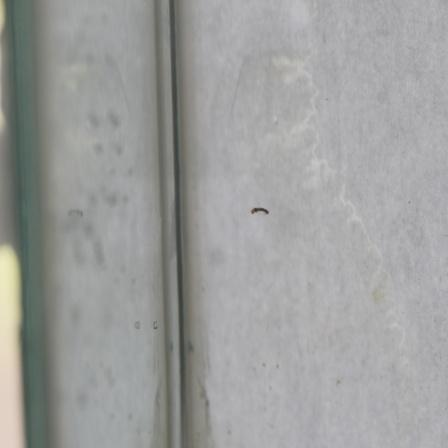Jentik-Nyamuk: (247, 201, 272, 221)
